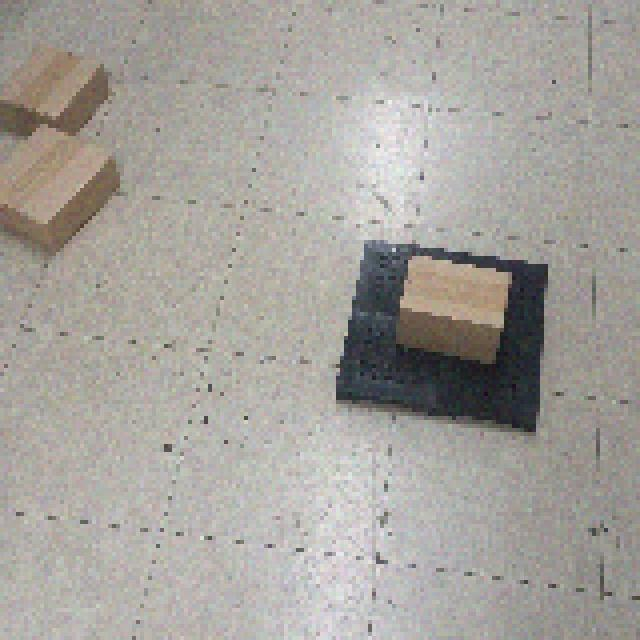box: (0, 116, 124, 253), (388, 248, 512, 367), (0, 36, 113, 134)
pallet: (327, 228, 552, 436)
